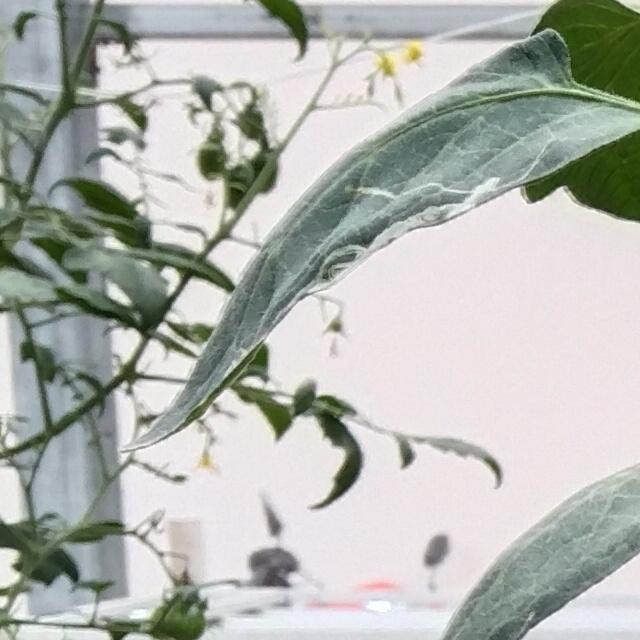Leaf_Miner: (111, 25, 640, 454)
